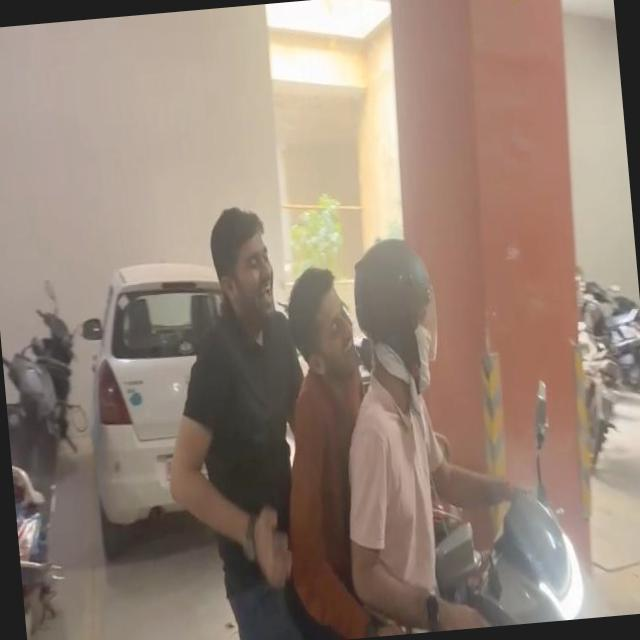motorcycle: (211, 429, 603, 640)
person: (144, 197, 341, 640), (340, 229, 499, 636), (268, 251, 402, 640)
